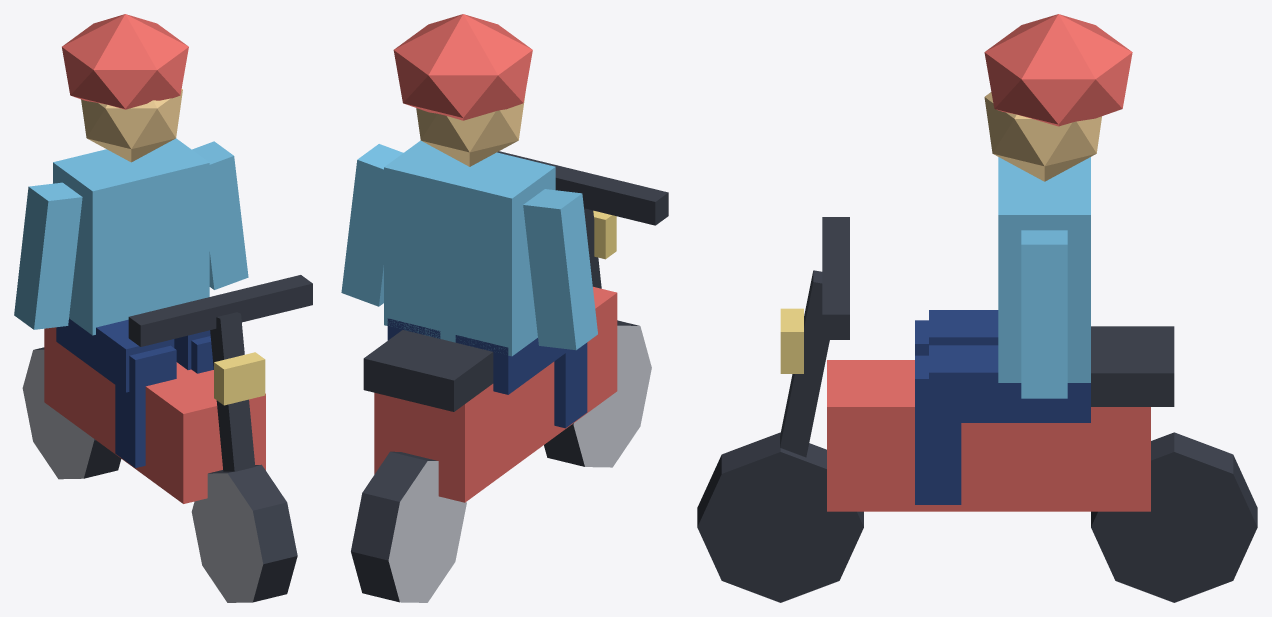
The model's file is vehicle_motorcycle.glb.
The picture shows the model from 3 angles, left to right: view 1: azimuth 30°, elevation 25°; view 2: azimuth 150°, elevation 25°; view 3: azimuth 270°, elevation 25°; orthographic projection. The views are drawn at different scales.
Visible parts, largest first — view 1: vehicle_motorcycle; view 2: vehicle_motorcycle; view 3: vehicle_motorcycle.
Part boxes in pixels (left/top/right/bottom): vehicle_motorcycle: left=14, top=14, right=312, bottom=602; vehicle_motorcycle: left=341, top=14, right=668, bottom=602; vehicle_motorcycle: left=697, top=14, right=1257, bottom=602.
Size of the model in its own units: 0.0623 by 0.138 by 0.121.
